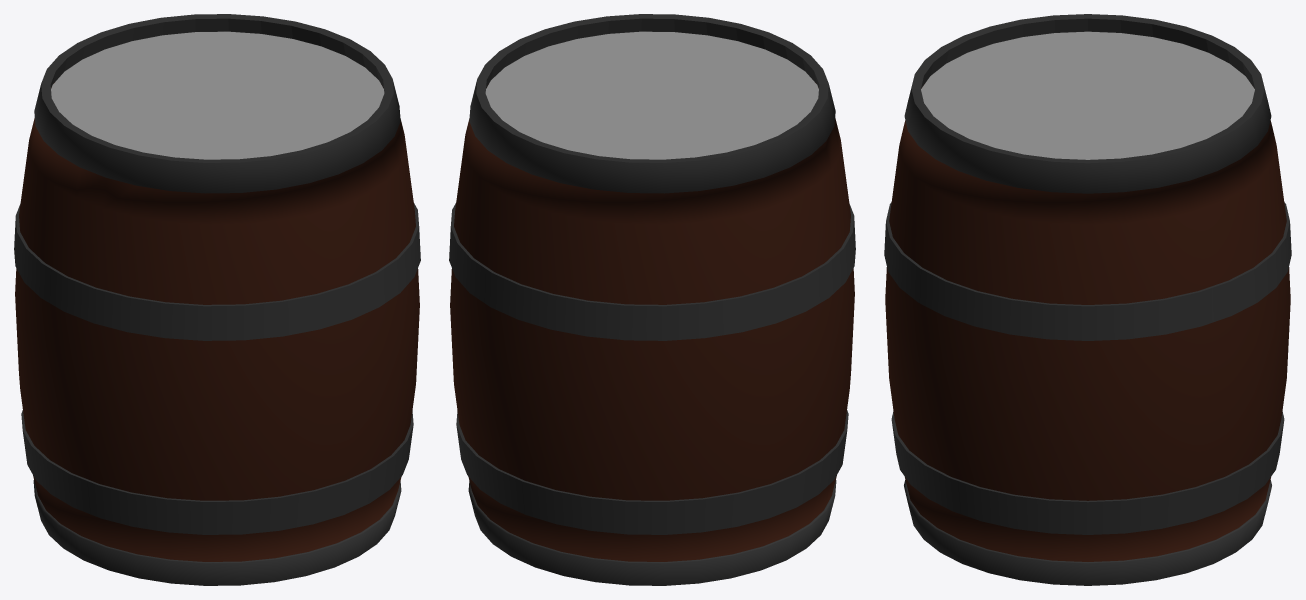
Rendered from barril2.FBX.
3 views of the same model, side by side, from view 1: azimuth 30°, elevation 25°; view 2: azimuth 150°, elevation 25°; view 3: azimuth 270°, elevation 25° (orthographic).
Visible parts, largest first — view 1: barril2, cintes barril, tapa barril002; view 2: barril2, cintes barril, tapa barril002; view 3: barril2, cintes barril, tapa barril002.
Part boxes in pixels (x1,y1,x2,y2): barril2: [15, 82, 419, 561]; cintes barril: [14, 14, 420, 585]; tapa barril002: [51, 31, 384, 159]; barril2: [450, 82, 854, 561]; cintes barril: [449, 14, 855, 585]; tapa barril002: [485, 31, 818, 159]; barril2: [885, 85, 1290, 561]; cintes barril: [884, 14, 1291, 585]; tapa barril002: [921, 31, 1254, 159].
Size of the model in its own units: 8.42 by 9.64 by 8.42.
